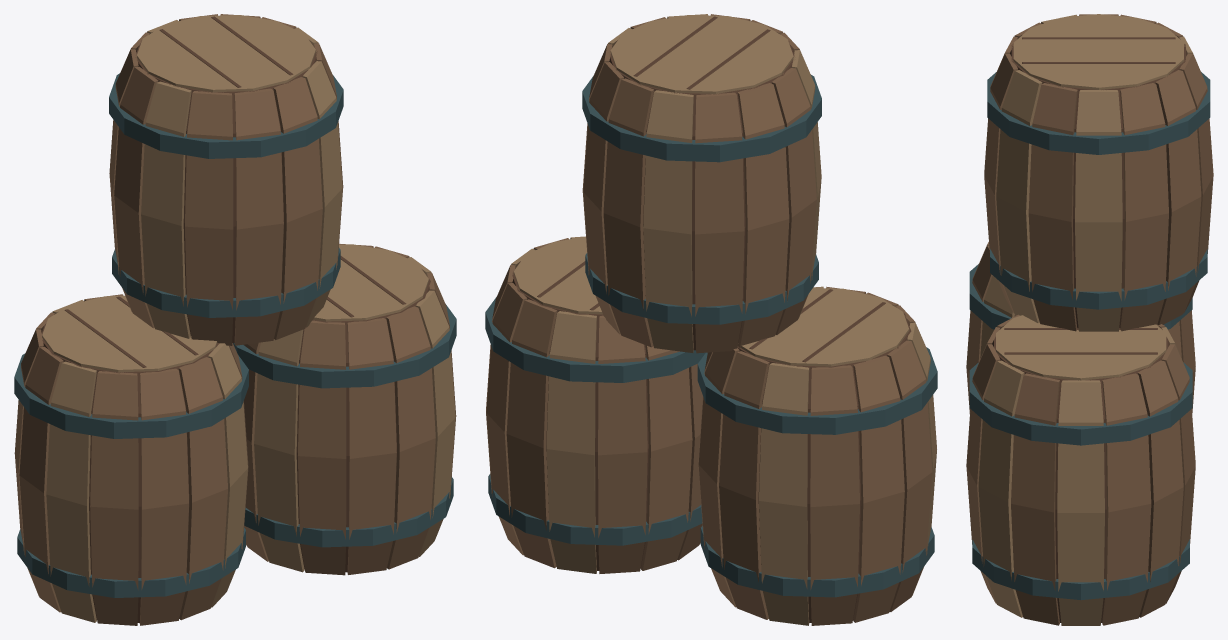
File: barrel-stack.glb
The picture shows the model from 3 angles, left to right: view 1: azimuth 30°, elevation 25°; view 2: azimuth 150°, elevation 25°; view 3: azimuth 270°, elevation 25°; orthographic projection. The views are drawn at different scales.
Visible parts, largest first — view 1: barrel-stack__body; view 2: barrel-stack__body; view 3: barrel-stack__body.
Boxes of the visible parts, x1,y1,x2,y2 form: barrel-stack__body: (14,14,456,625); barrel-stack__body: (485,14,937,625); barrel-stack__body: (966,14,1213,625).
Bounding box in the file's own units: 0.9115 × 1.06 × 0.4876.
